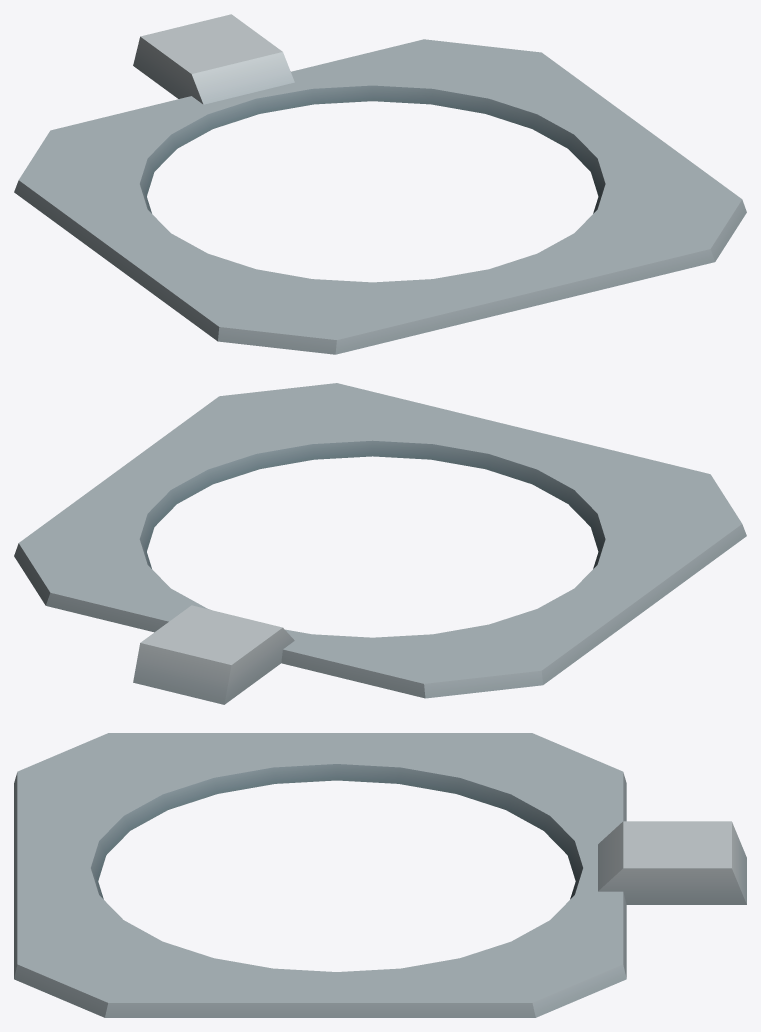
The model's file is Hatch_002.fbx.
The picture shows the model from 3 angles, top to bottom: view 1: azimuth 30°, elevation 25°; view 2: azimuth 150°, elevation 25°; view 3: azimuth 270°, elevation 25°; orthographic projection. The views are drawn at different scales.
Parts seen in each view (by area): view 1: Hatch_002; view 2: Hatch_002; view 3: Hatch_002.
Boxes of the visible parts, <box> form: Hatch_002: <box>14,14,746,354</box>; Hatch_002: <box>14,383,746,704</box>; Hatch_002: <box>14,733,746,1017</box>.
Size of the model in its own units: 87.47 by 99.25 by 5.46.
